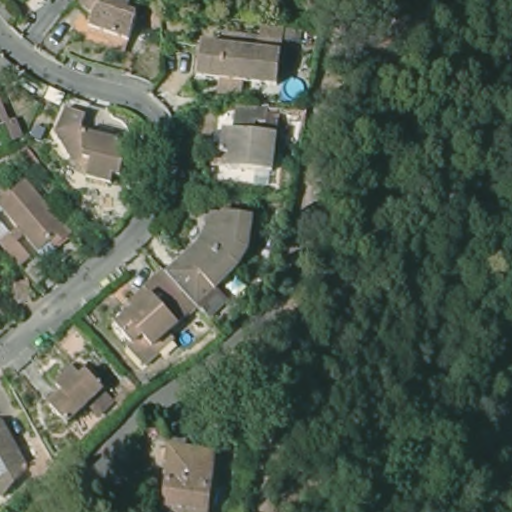pool: (283, 75, 308, 101), (179, 331, 196, 347)
